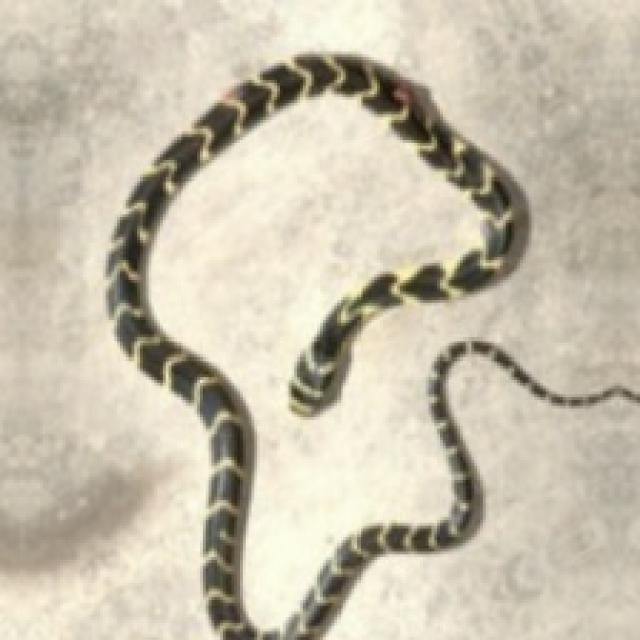king cobra: (106, 54, 637, 637)
